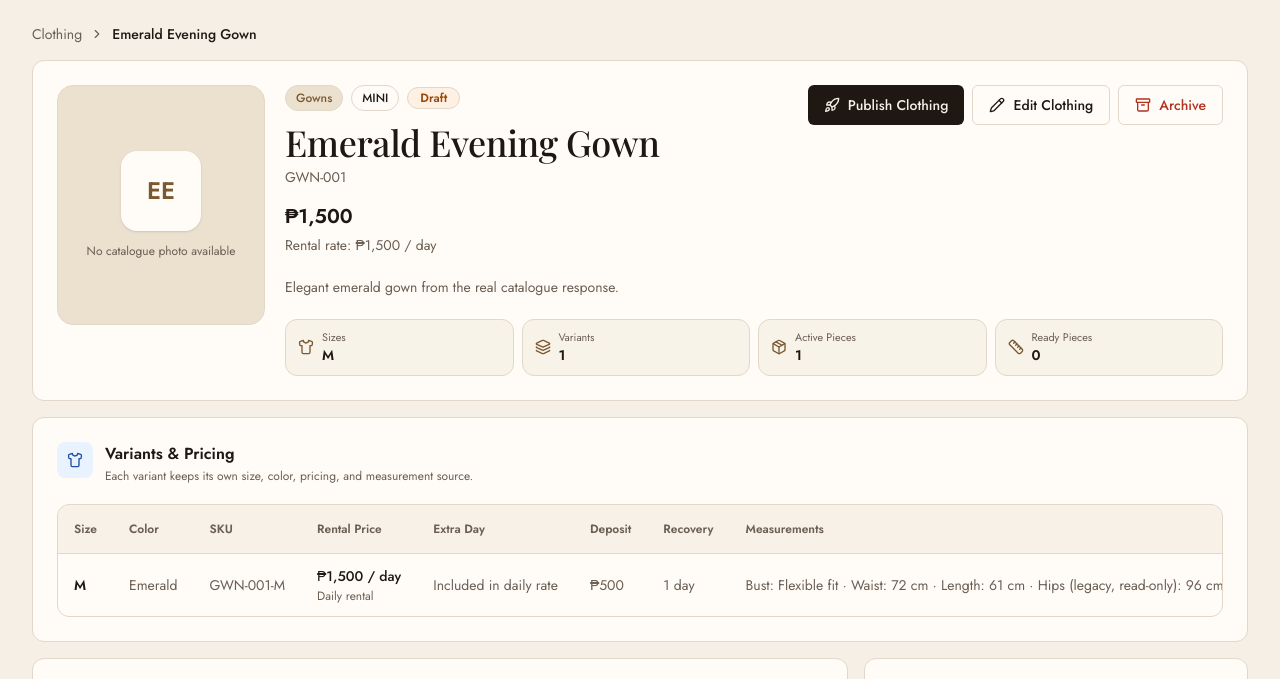
Scenario: ClothingDetailsPage › keeps an incomplete draft on screen and shows the publish validation error
The width and height of the screenshot is (1280, 679).
Click the button "Publish Clothing". click: [886, 105]
box: [808,85,964,125]
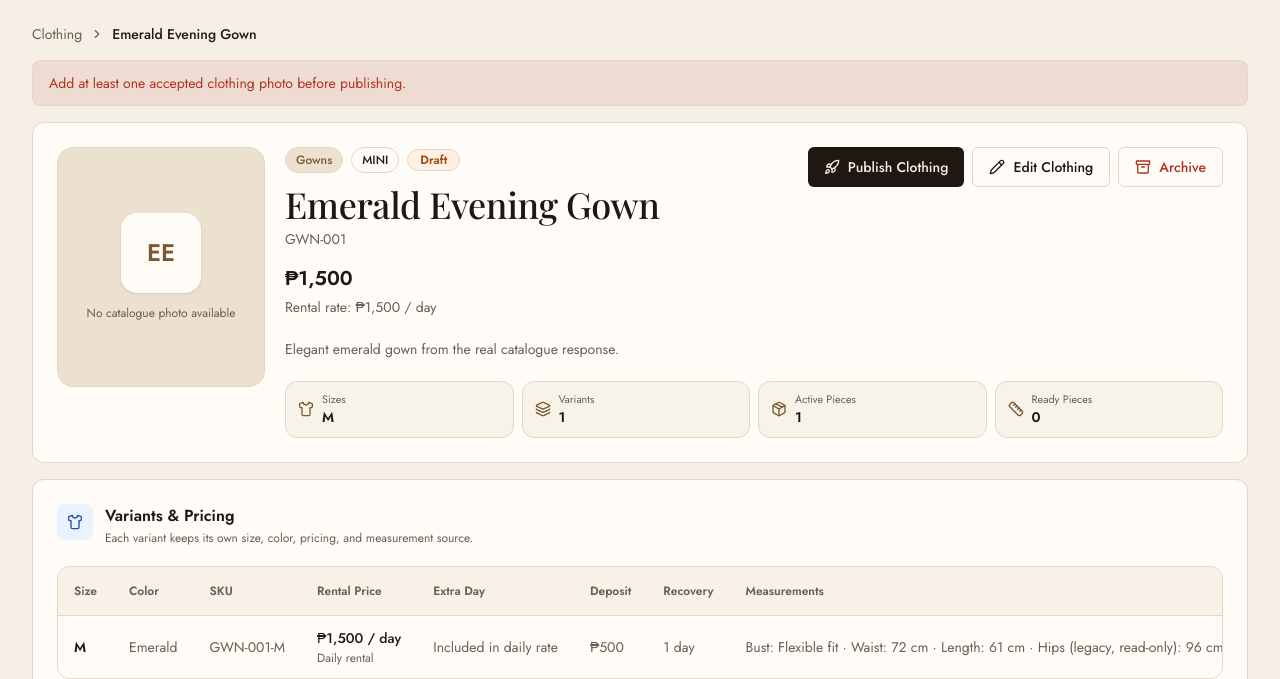
expect the button "Publish Clothing" is shown: met, box [808,147,964,187]
expect the message reads "Add at least one accepted clothing photo before publishing.": met, box [49,73,406,93]
